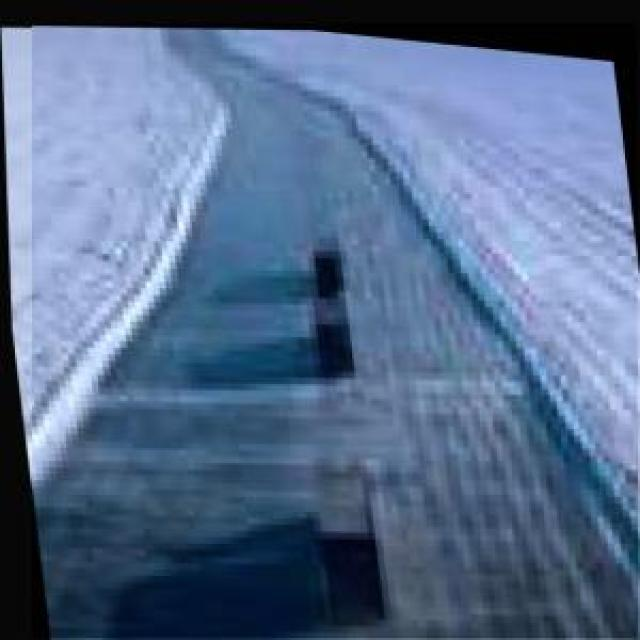ice-road: (33, 26, 640, 638)
